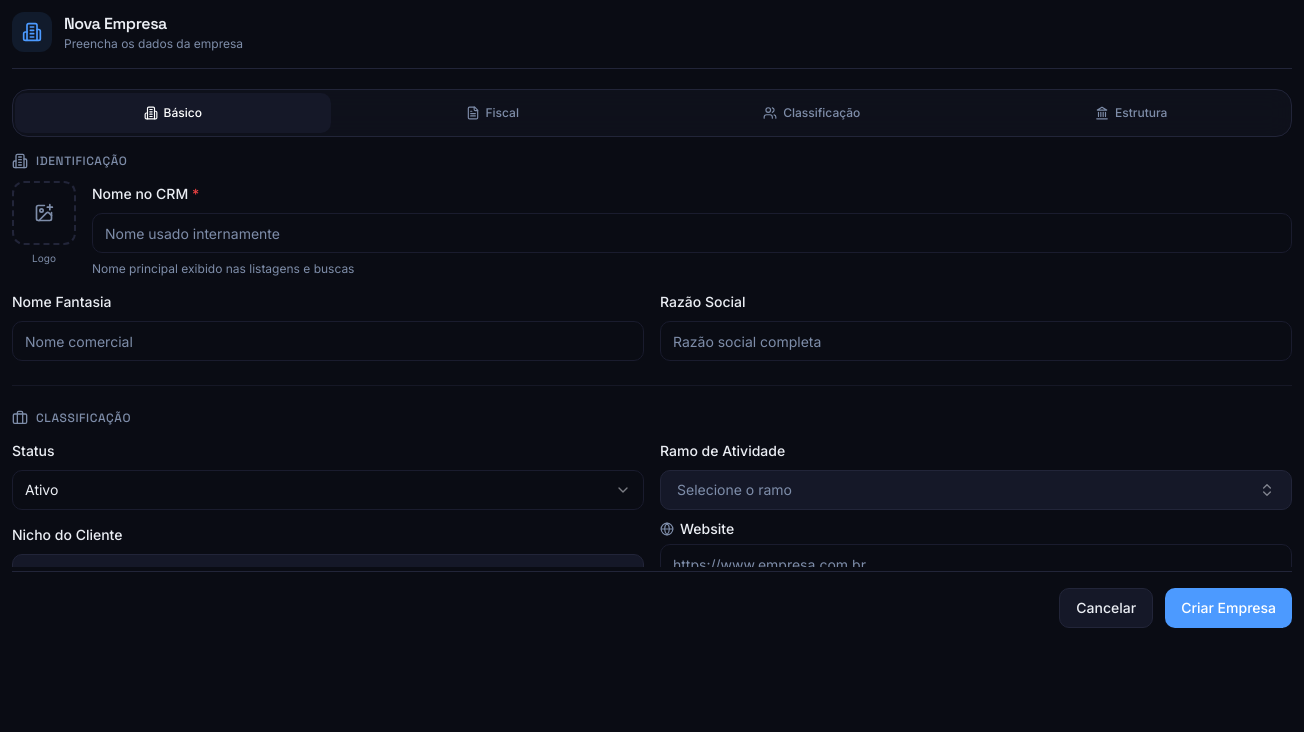
Test case: CompanyForm — Validation › requires company name
What coordinates should you click on to do the following:
click the button "Criar Empresa"
I would click on:
 (1229, 608)
Its box is 1165,588 -> 1292,628.
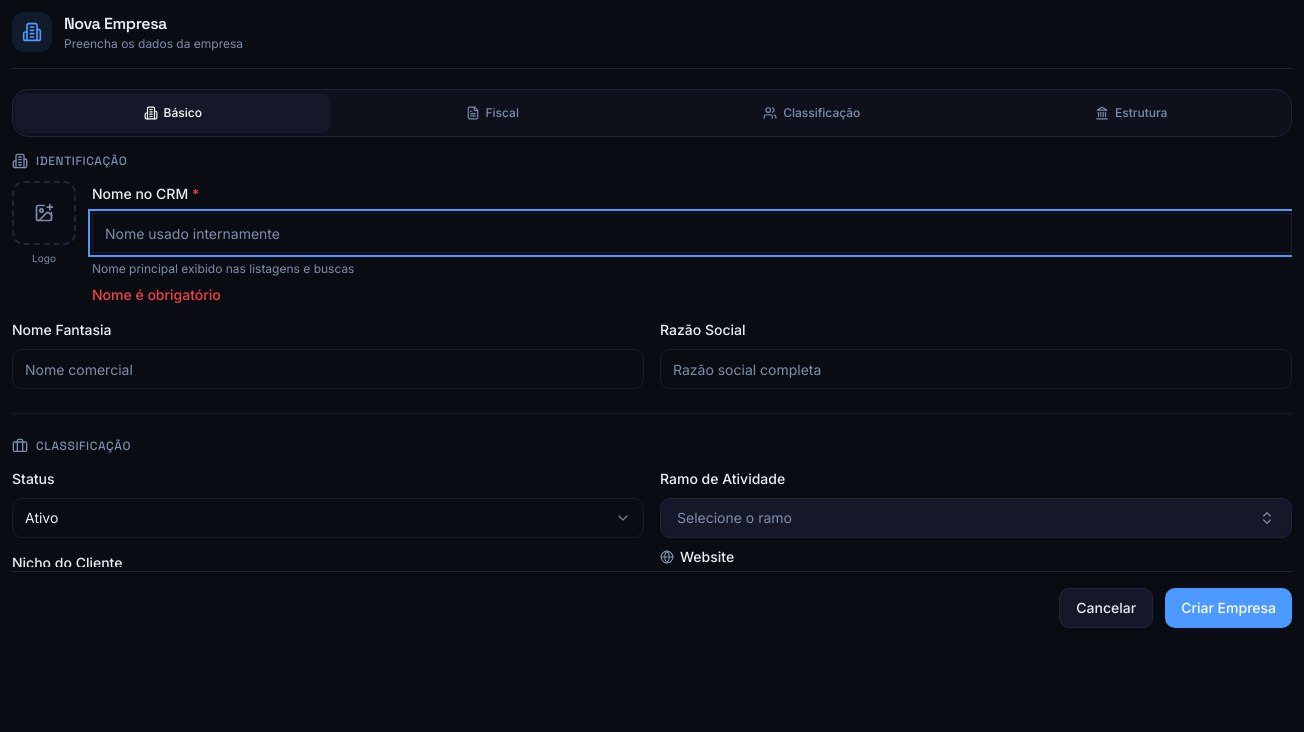
Check: the text "Nome é obrigatório" is shown, box 92,286 -> 221,303
